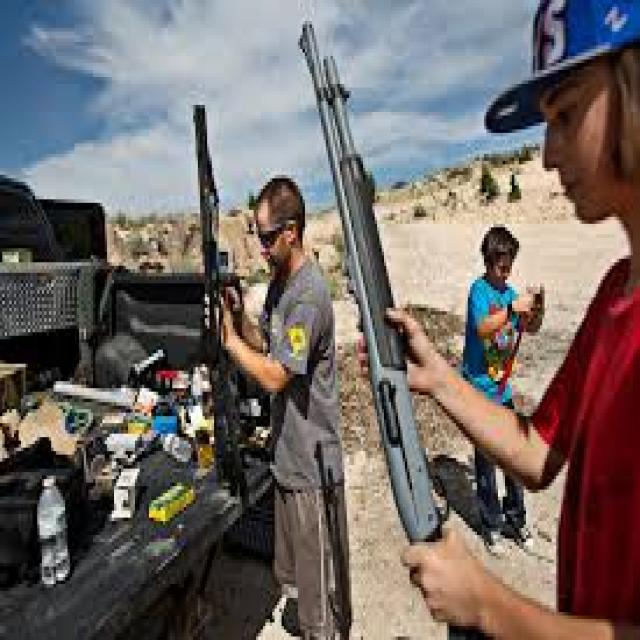gun: (289, 7, 505, 640), (170, 80, 268, 522)
